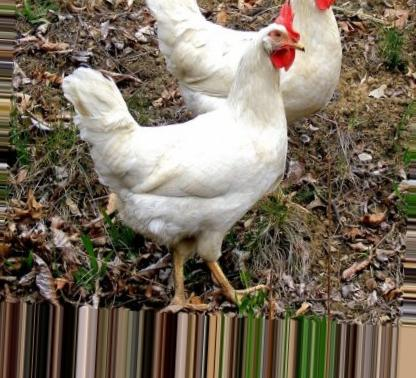Healthy: (54, 13, 307, 309)
